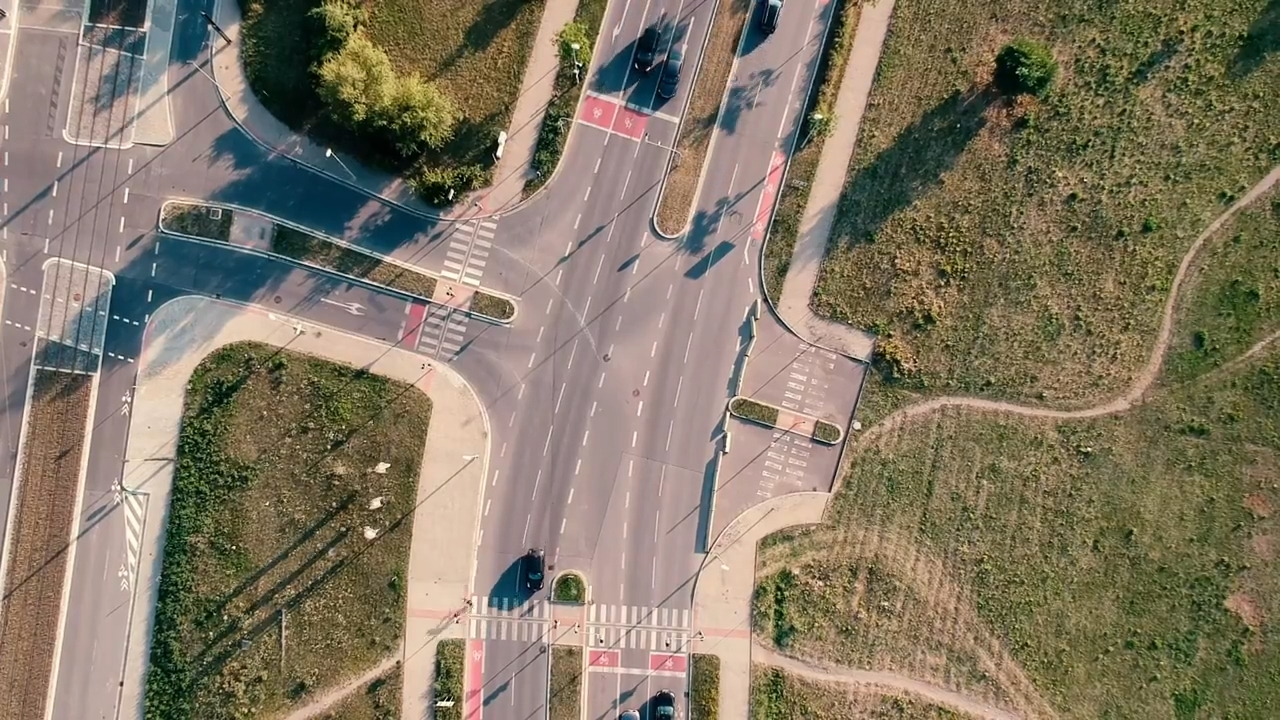car: (654, 50, 687, 100), (633, 24, 659, 75), (524, 547, 546, 593), (653, 687, 677, 720), (760, 1, 784, 34), (622, 708, 642, 720)
